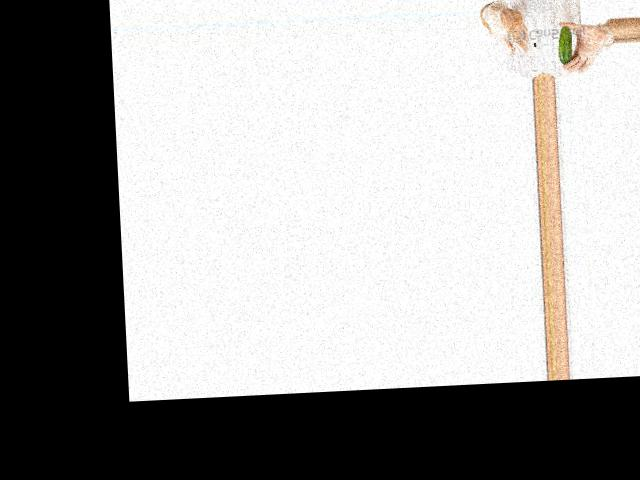cucumber: (558, 25, 574, 65)
